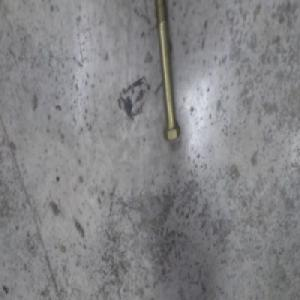Bolt: (152, 4, 179, 145)
